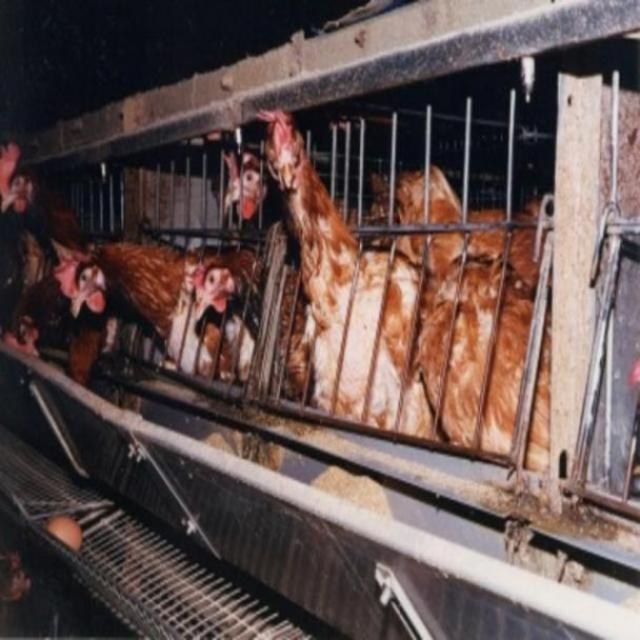Chicken: (240, 93, 486, 423), (418, 171, 549, 481), (45, 231, 251, 404), (168, 245, 312, 459), (0, 257, 115, 390), (0, 131, 75, 271), (213, 131, 286, 245)
